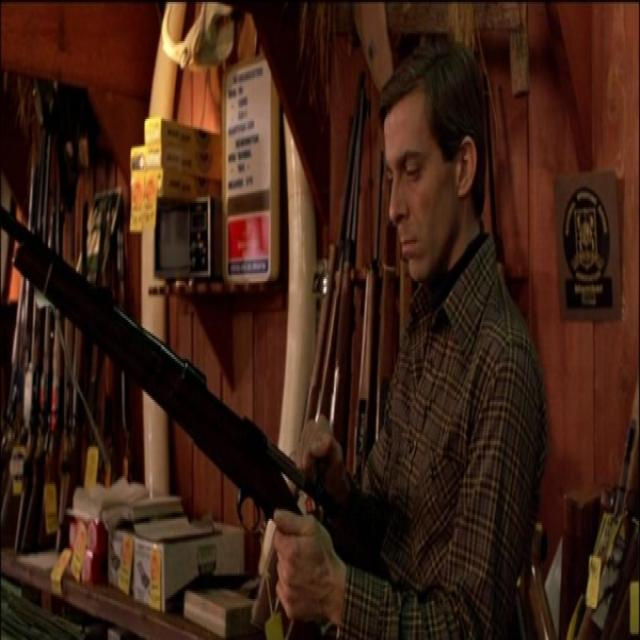rifle: (4, 202, 294, 538)
